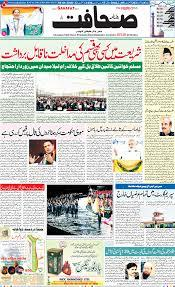Printing industry: (0, 2, 175, 287)
